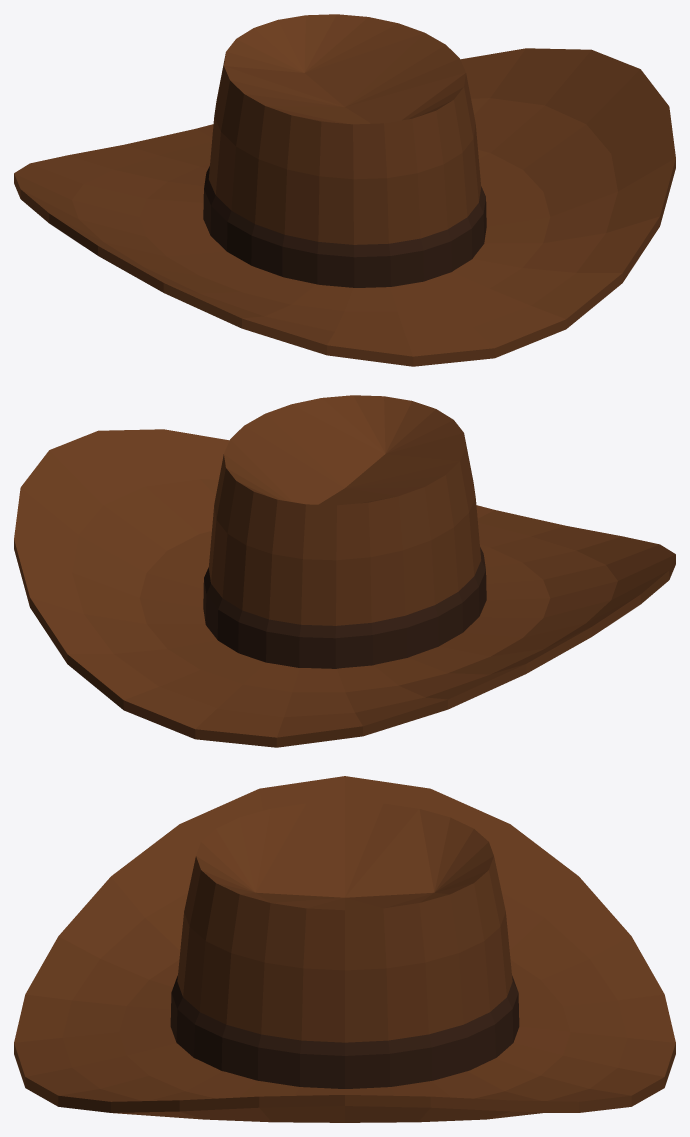
Rendered from SM_Cowboy_Hat.obj.
The picture shows the model from 3 angles, top to bottom: view 1: azimuth 30°, elevation 25°; view 2: azimuth 150°, elevation 25°; view 3: azimuth 270°, elevation 25°; orthographic projection. The views are drawn at different scales.
Visible parts, largest first — view 1: SM_Cowboy_Hat; view 2: SM_Cowboy_Hat; view 3: SM_Cowboy_Hat.
Part boxes in pixels (bbox=[...]): SM_Cowboy_Hat: bbox=[14, 14, 675, 366]; SM_Cowboy_Hat: bbox=[14, 395, 675, 747]; SM_Cowboy_Hat: bbox=[14, 776, 675, 1122].
Bounding box in the file's own units: 0.49 × 0.142 × 0.43.
